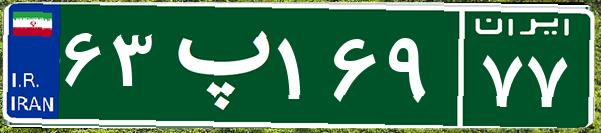1: (273, 28, 330, 110)
3: (110, 28, 158, 105)
6: (330, 28, 385, 110), (57, 26, 110, 107)
7: (475, 38, 525, 113), (525, 38, 570, 115)
9: (385, 28, 445, 110)
پ: (158, 15, 273, 115)
